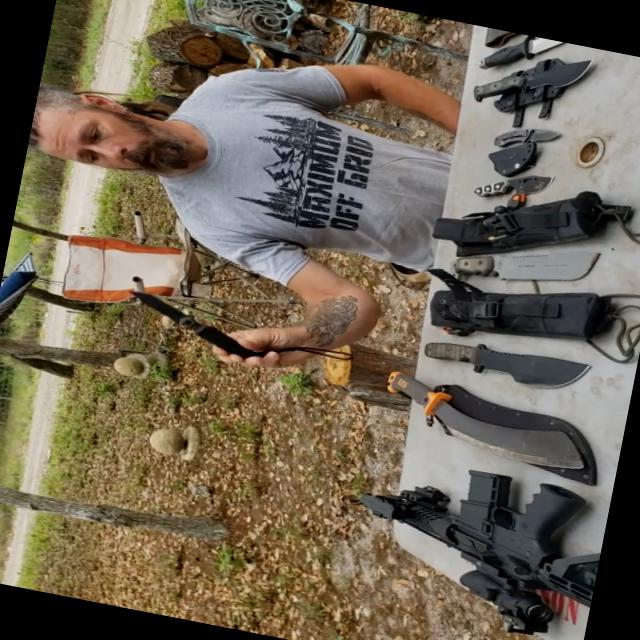knife: (362, 363, 594, 480), (400, 318, 600, 398), (439, 215, 612, 306), (463, 36, 592, 129), (124, 280, 258, 364), (448, 160, 556, 211), (476, 108, 563, 168), (474, 26, 554, 78)
long weapon: (320, 428, 615, 639)
